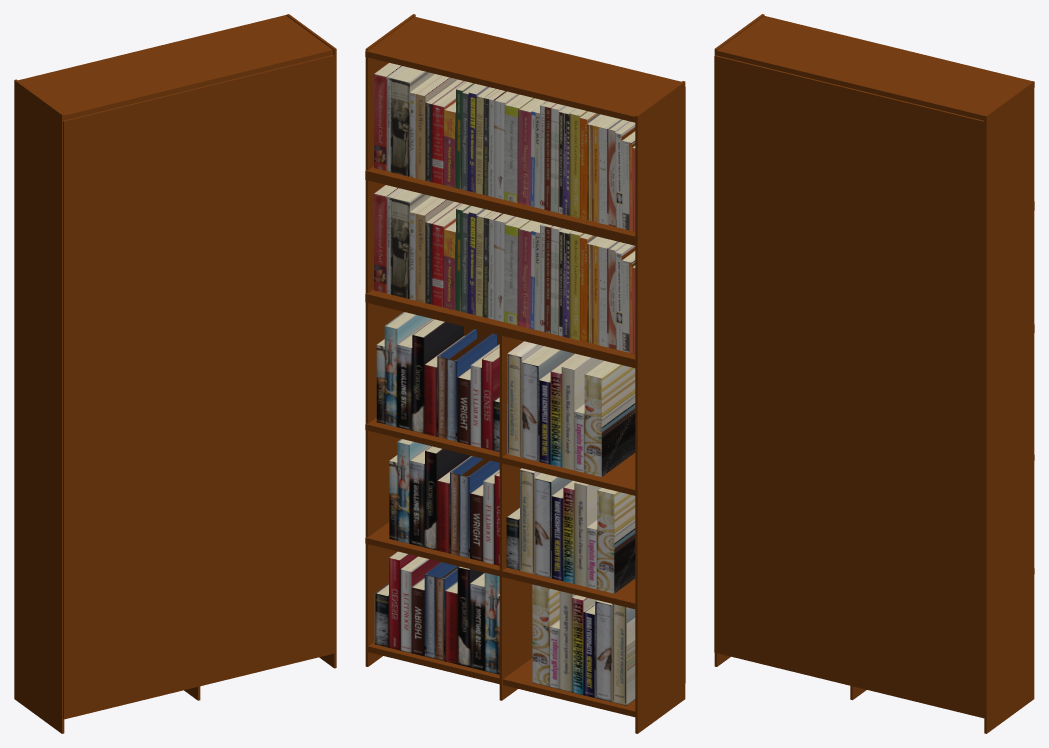
File: Bookshelf 2.fbx
The picture shows the model from 3 angles, left to right: view 1: azimuth 30°, elevation 25°; view 2: azimuth 150°, elevation 25°; view 3: azimuth 330°, elevation 25°; orthographic projection.
Parts seen in each view (by area): view 1: Bookshelf2; view 2: Bookshelf2; view 3: Bookshelf2.
Boxes of the visible parts, box(x1,y1,x2,y2) form: Bookshelf2: box(14, 14, 336, 733); Bookshelf2: box(365, 14, 685, 733); Bookshelf2: box(714, 14, 1034, 733).
Bounding box in the file's own units: 0.0416 × 0.09 × 0.0129.
Materials: 1 (1 with a texture image).
